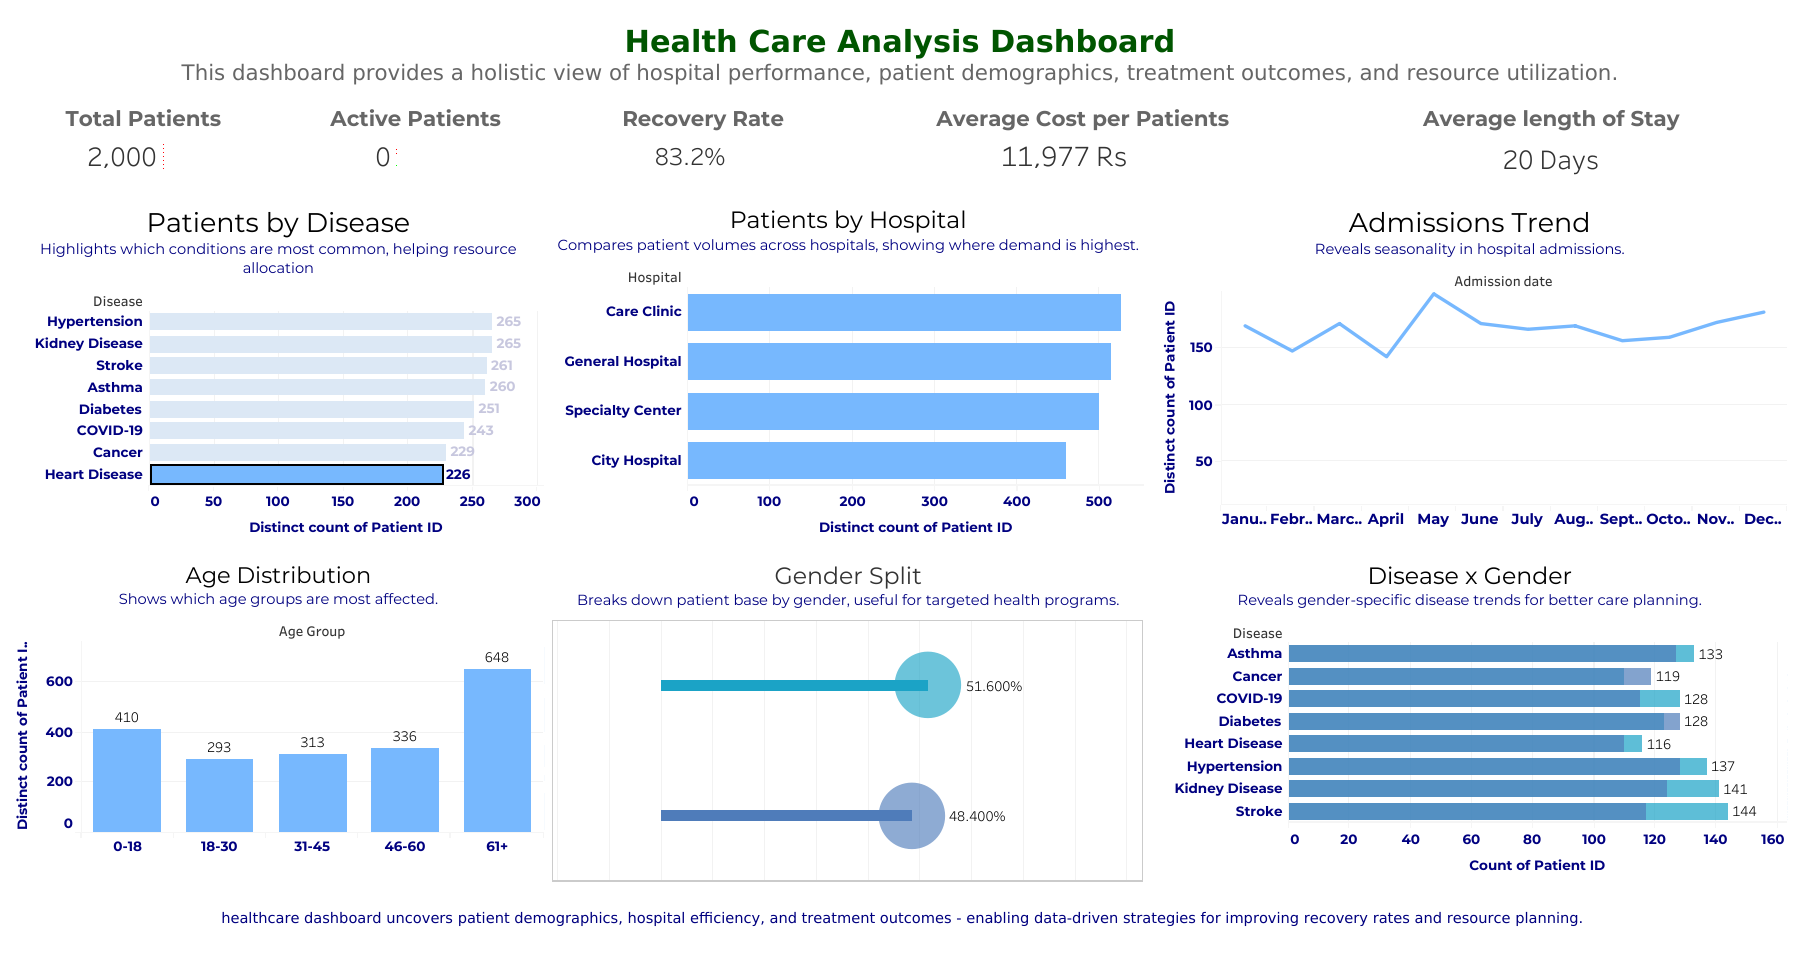

This screenshot's page, from the dashboard's own definition file:
{"tool":"tableau","page":{"name":"Dashboard 1","canvas":[1600,850],"ordinal":0},"visuals":[{"type":"title","box":[8,8,1584,79]},{"type":"text","box":[8,87,238.9,35]},{"type":"text","box":[246.9,87,245,35]},{"type":"text","box":[491.9,87,266,35]},{"type":"text","box":[757.9,87,409,35]},{"type":"text","box":[1166.9,87,425.1,35]},{"type":"worksheet","title":"KPI – Total Patients","mark":"Automatic","box":[8,122,238.9,35]},{"type":"worksheet","title":"KPI – Active Patients","mark":"Automatic","box":[246.9,122,244.8,35]},{"type":"worksheet","title":"Recovery Rate","mark":"Automatic","box":[491.7,122,266.2,35]},{"type":"worksheet","title":"KPI Average Cost per Patient","mark":"Automatic","box":[757.8,122,409,35]},{"type":"worksheet","title":"KPI – Average Length of Stay","mark":"Automatic","box":[1166.8,122,425.2,45]},{"type":"worksheet","title":"Patients by Disease","mark":"Bar","rows":["Disease"],"cols":["PatientID"],"box":[8,172,479,316]},{"type":"worksheet","title":"Patients by Hospital","mark":"Bar","rows":["Hospital"],"cols":["PatientID"],"box":[487,172,534.2,316]},{"type":"worksheet","title":"Admissions Trend","mark":"Automatic","rows":["PatientID"],"cols":["Admission date"],"box":[1021.2,172,570.8,316]},{"type":"worksheet","title":"Age Distribution","mark":"Automatic","rows":["PatientID"],"cols":["Calculation_940126475887542274"],"box":[8,488,479,300]},{"type":"worksheet","title":"Gender Split","mark":"Automatic","rows":["Gender"],"cols":["PatientID","PatientID"],"box":[487,488,534.2,300]},{"type":"worksheet","title":"Disease x Gender","mark":"Bar","rows":["Disease"],"cols":["PatientID"],"box":[1021.2,488,570.8,300]},{"type":"text","box":[8,788,1584,54]}]}

Visuals, with their boxes in screenshot pixels (x1, y1, x2, y2), scaled from the page's 1600x850 canvas onto the 1799x955 screenshot:
title: detection(9, 9, 1790, 98)
text: detection(9, 98, 278, 137)
text: detection(278, 98, 553, 137)
text: detection(553, 98, 852, 137)
text: detection(852, 98, 1312, 137)
text: detection(1312, 98, 1790, 137)
"KPI – Total Patients" worksheet: detection(9, 137, 278, 176)
"KPI – Active Patients" worksheet: detection(278, 137, 553, 176)
"Recovery Rate" worksheet: detection(553, 137, 852, 176)
"KPI Average Cost per Patient" worksheet: detection(852, 137, 1312, 176)
"KPI – Average Length of Stay" worksheet: detection(1312, 137, 1790, 188)
"Patients by Disease" worksheet (Bar marks): detection(9, 193, 548, 548)
"Patients by Hospital" worksheet (Bar marks): detection(548, 193, 1148, 548)
"Admissions Trend" worksheet: detection(1148, 193, 1790, 548)
"Age Distribution" worksheet: detection(9, 548, 548, 885)
"Gender Split" worksheet: detection(548, 548, 1148, 885)
"Disease x Gender" worksheet (Bar marks): detection(1148, 548, 1790, 885)
text: detection(9, 885, 1790, 946)
